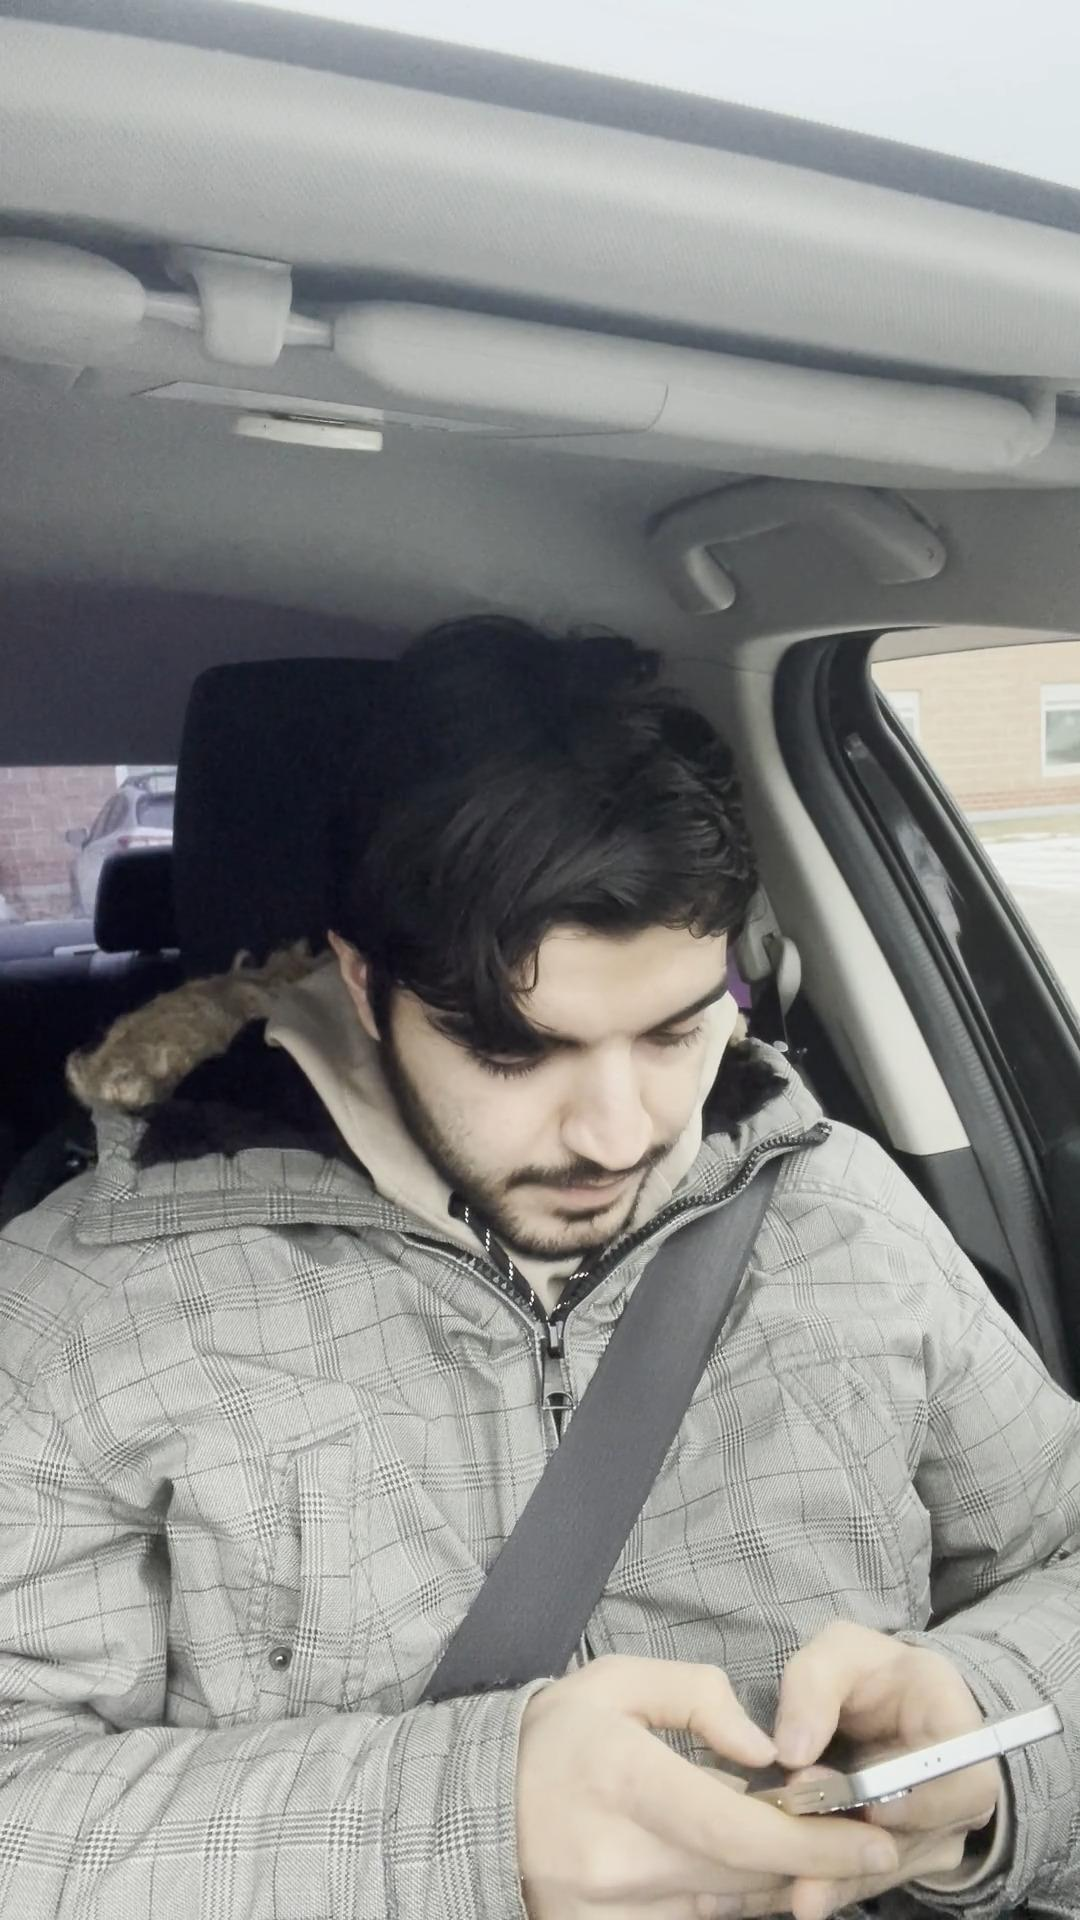mobile: (620, 1619, 1080, 1850)
